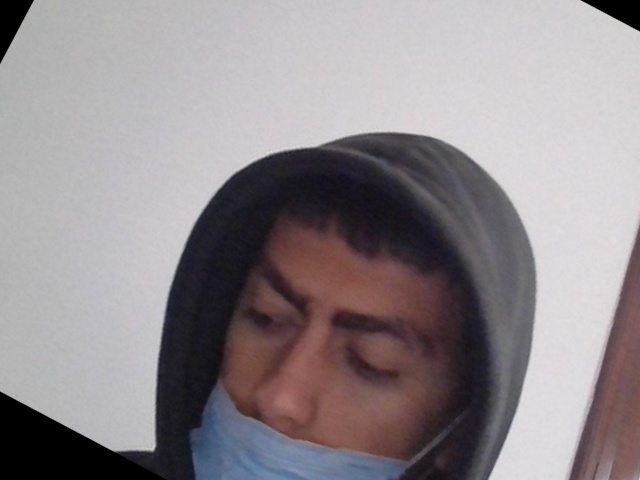mask_weared_incorrect: (184, 179, 473, 480)
